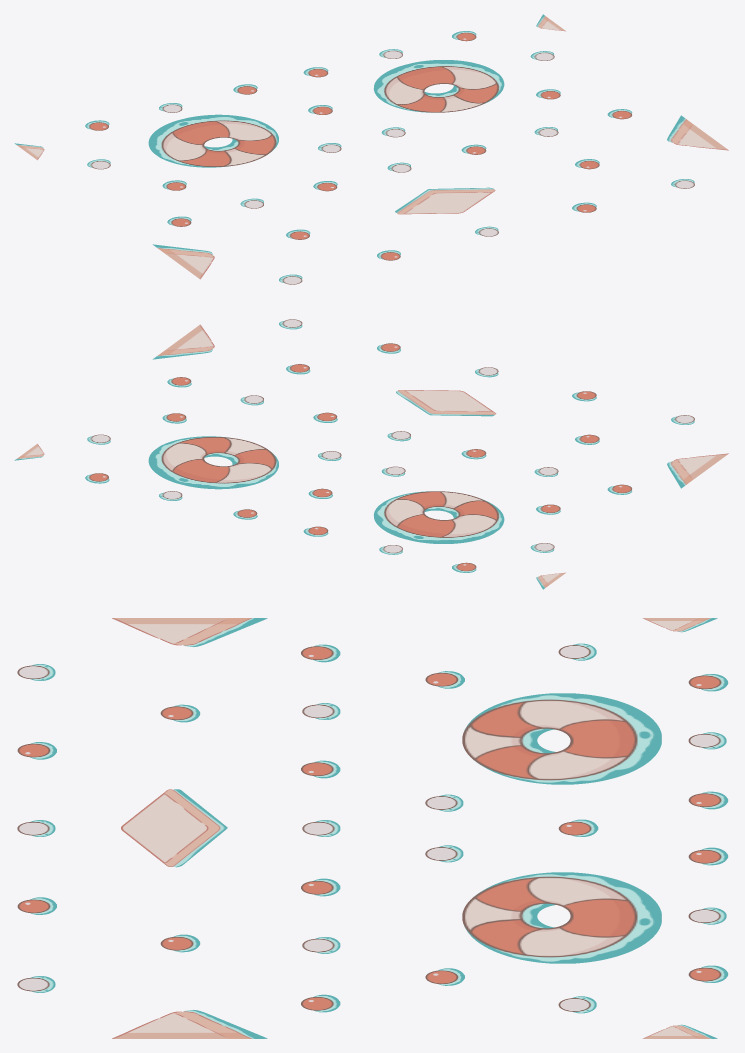
The model's file is Mesh_Activity_Pachinko_02_Collision.fbx.
3 renders of one model, top to bottom at view 1: azimuth 30°, elevation 25°; view 2: azimuth 150°, elevation 25°; view 3: azimuth 270°, elevation 25°, orthographic. The views are drawn at different scales.
Parts seen in each view (by area): view 1: Mesh_Activity_Pachinko_02_Collision; view 2: Mesh_Activity_Pachinko_02_Collision; view 3: Mesh_Activity_Pachinko_02_Collision.
Boxes of the visible parts, bbox=[...] form: Mesh_Activity_Pachinko_02_Collision: bbox=[14, 14, 728, 284]; Mesh_Activity_Pachinko_02_Collision: bbox=[14, 319, 728, 589]; Mesh_Activity_Pachinko_02_Collision: bbox=[17, 618, 728, 1038].
Size of the model in its own units: 36.87 by 7.92e-15 by 26.56.
